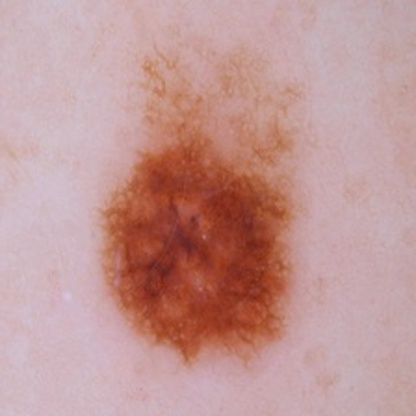malignant: (100, 126, 290, 350)
